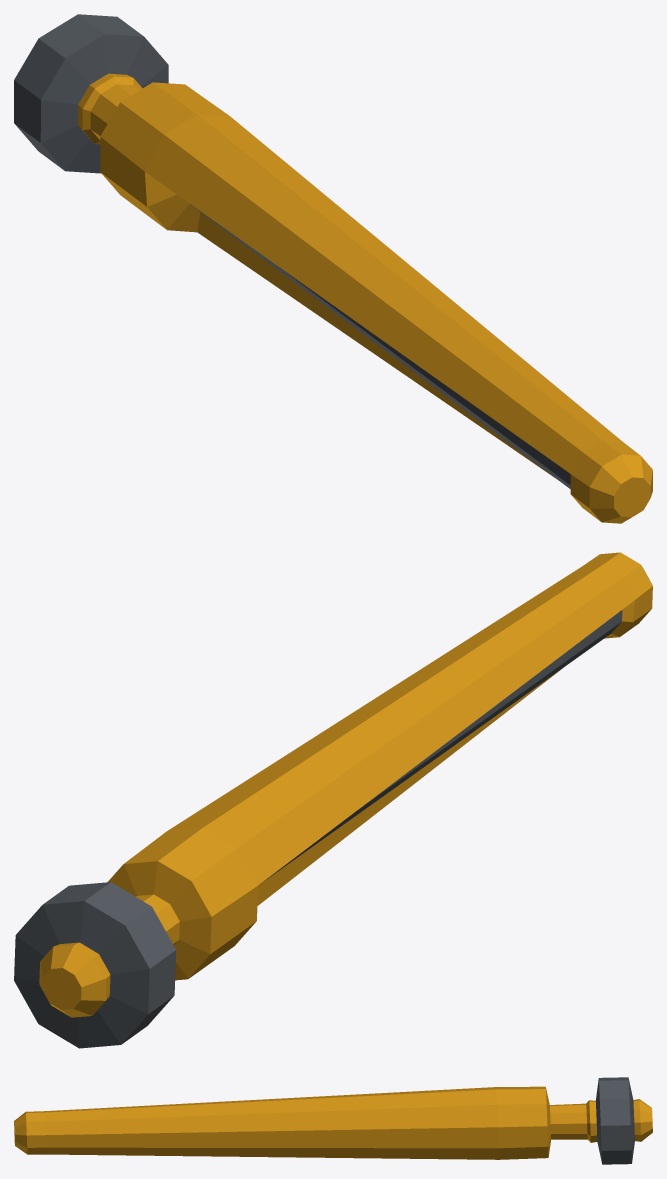
File: Fighter_07_MiniGun_Yellow.fbx
The picture shows the model from 3 angles, top to bottom: view 1: azimuth 30°, elevation 25°; view 2: azimuth 150°, elevation 25°; view 3: azimuth 270°, elevation 25°; orthographic projection. The views are drawn at different scales.
Parts seen in each view (by area): view 1: Fighter_07_MiniGun_Yellow; view 2: Fighter_07_MiniGun_Yellow; view 3: Fighter_07_MiniGun_Yellow.
Part boxes in pixels (x1,y1,x2,y2): Fighter_07_MiniGun_Yellow: (14, 14, 652, 523); Fighter_07_MiniGun_Yellow: (14, 552, 652, 1048); Fighter_07_MiniGun_Yellow: (14, 1077, 652, 1164).
Bounding box in the file's own units: 61.54 × 64.42 × 461.
2 materials, 2 textured.
